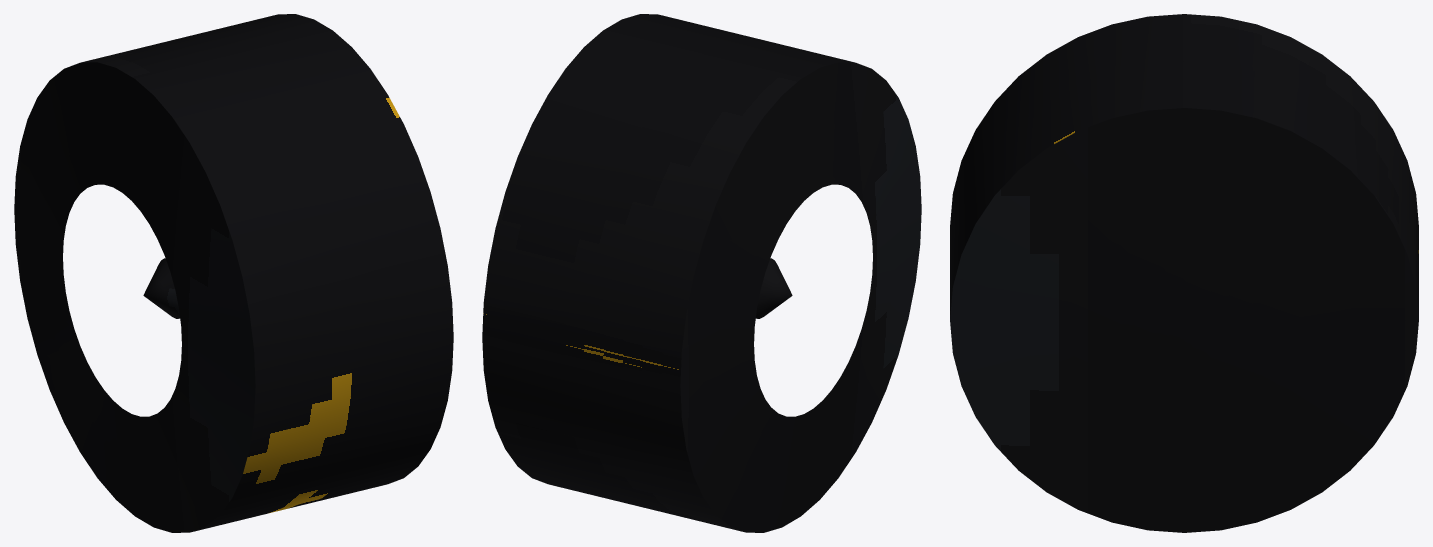
File: F1_2009_fw31_wheel_front.glb
3 views of the same model, side by side, from view 1: azimuth 30°, elevation 25°; view 2: azimuth 150°, elevation 25°; view 3: azimuth 270°, elevation 25° (orthographic). The views are drawn at different scales.
Parts seen in each view (by area): view 1: GEO_WHEEL_TREAD, GEO_WHEEL_TIRE_INNER, GEO_WHEEL_HUB; view 2: GEO_WHEEL_TREAD, GEO_WHEEL_TIRE_INNER, GEO_WHEEL_HUB; view 3: GEO_WHEEL_TIRE_INNER, GEO_WHEEL_TREAD.
Boxes of the visible parts, <box> form: GEO_WHEEL_TREAD: <box>81,14,453,532</box>; GEO_WHEEL_TIRE_INNER: <box>14,62,255,532</box>; GEO_WHEEL_HUB: <box>143,258,180,318</box>; GEO_WHEEL_TREAD: <box>482,14,854,532</box>; GEO_WHEEL_TIRE_INNER: <box>680,62,921,532</box>; GEO_WHEEL_HUB: <box>755,258,792,318</box>; GEO_WHEEL_TIRE_INNER: <box>950,108,1418,532</box>; GEO_WHEEL_TREAD: <box>950,14,1418,318</box>.
Size of the model in its own units: 0.35 by 0.66 by 0.66.
4 materials, 4 textured.
